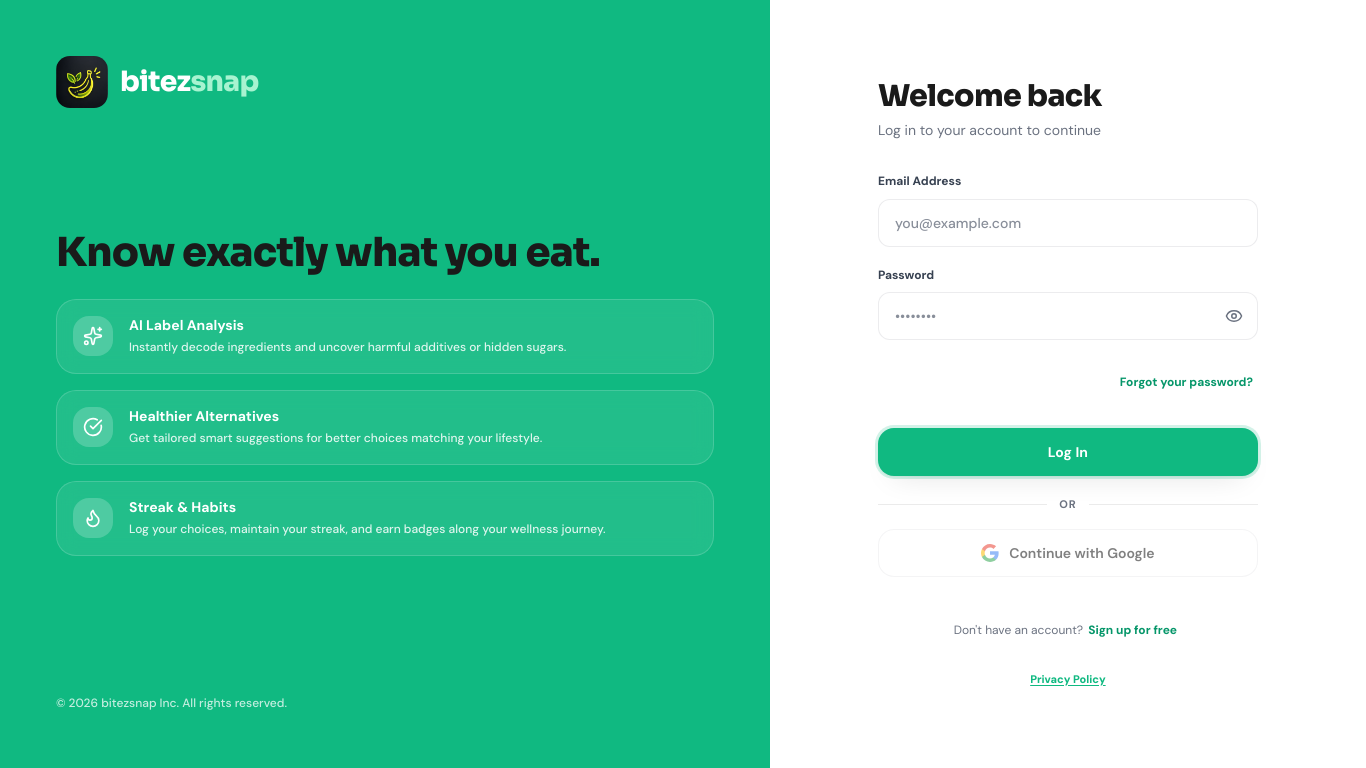
it: Login › shows error on failure
The width and height of the screenshot is (1366, 768).
Type "a@b.com" into the field labelled "Email Address" at x=1068, y=223, box [878, 199, 1258, 247]
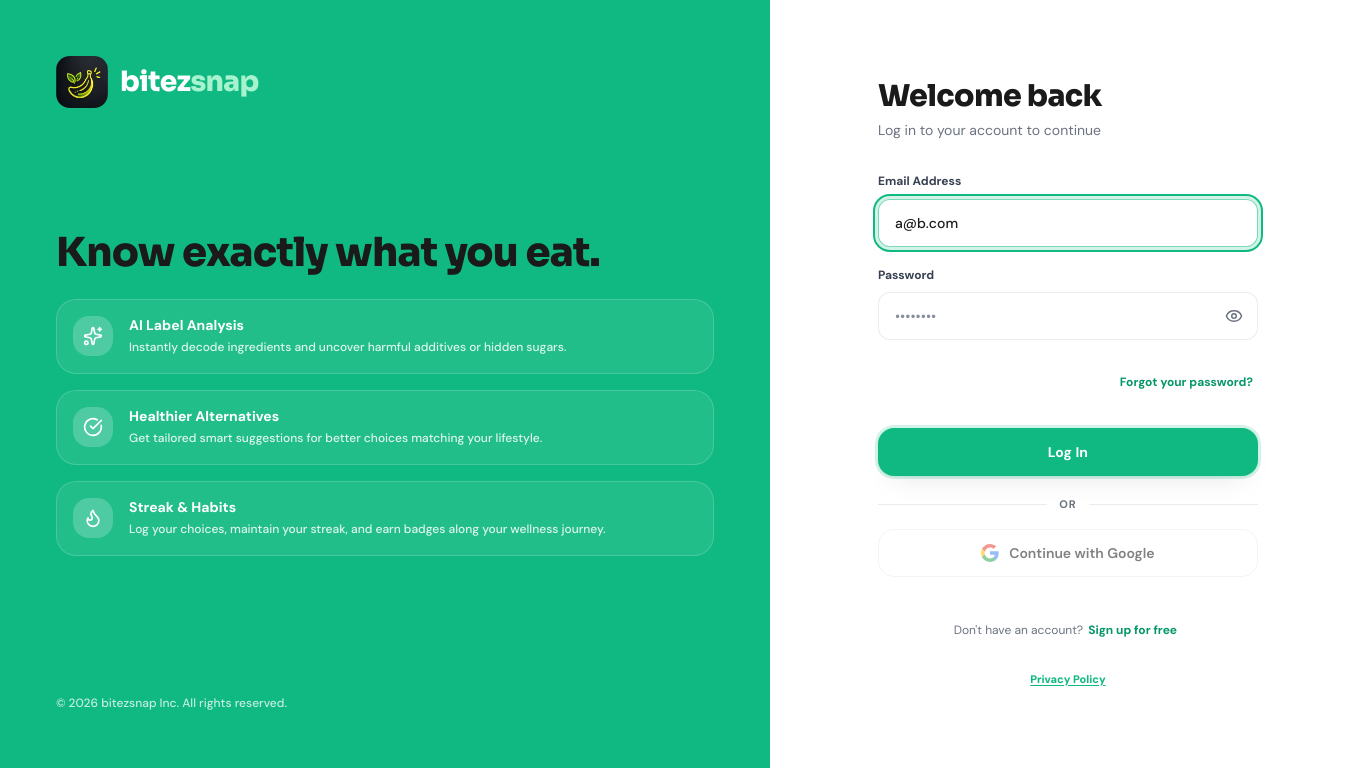
Type "wrong" into the password field labelled "Password" at x=1068, y=316, box [878, 292, 1258, 340]
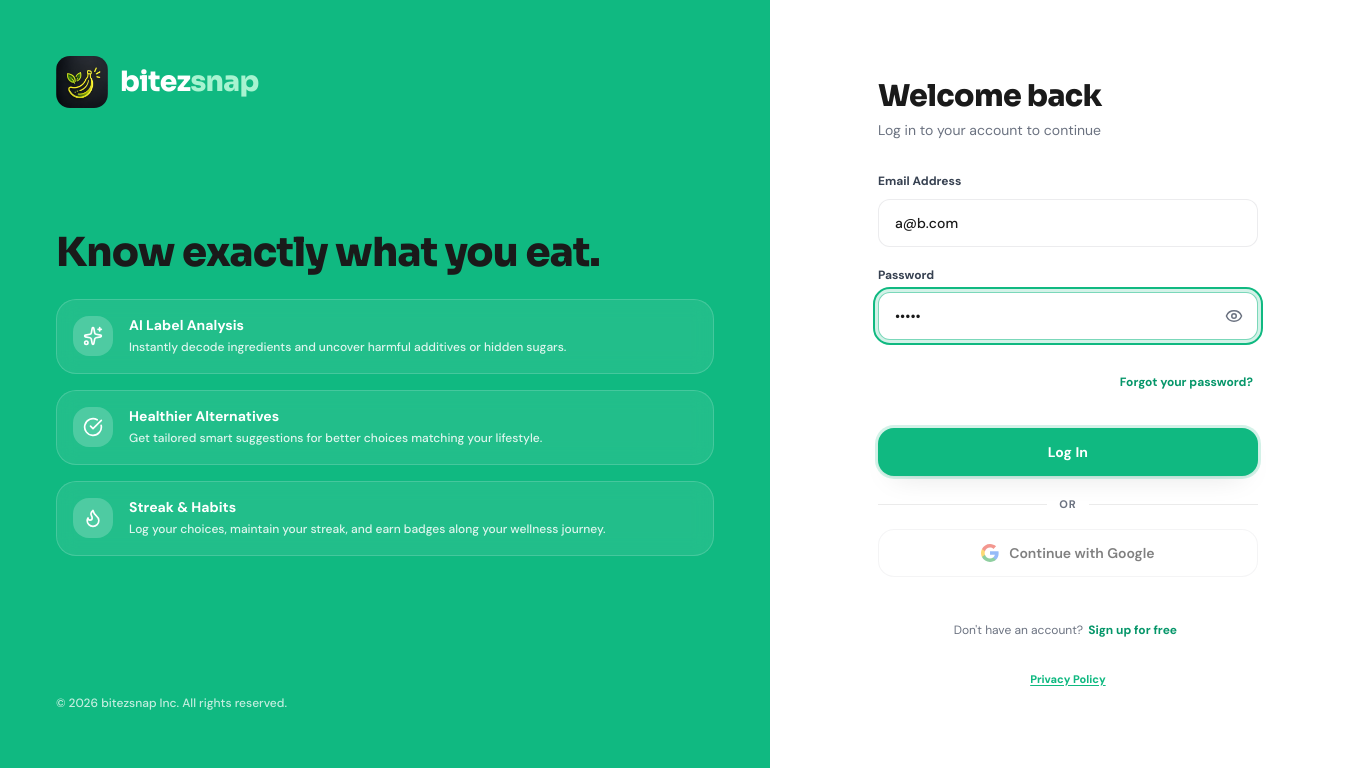
Click the button "Log In" at x=1068, y=452, box [878, 428, 1258, 476]
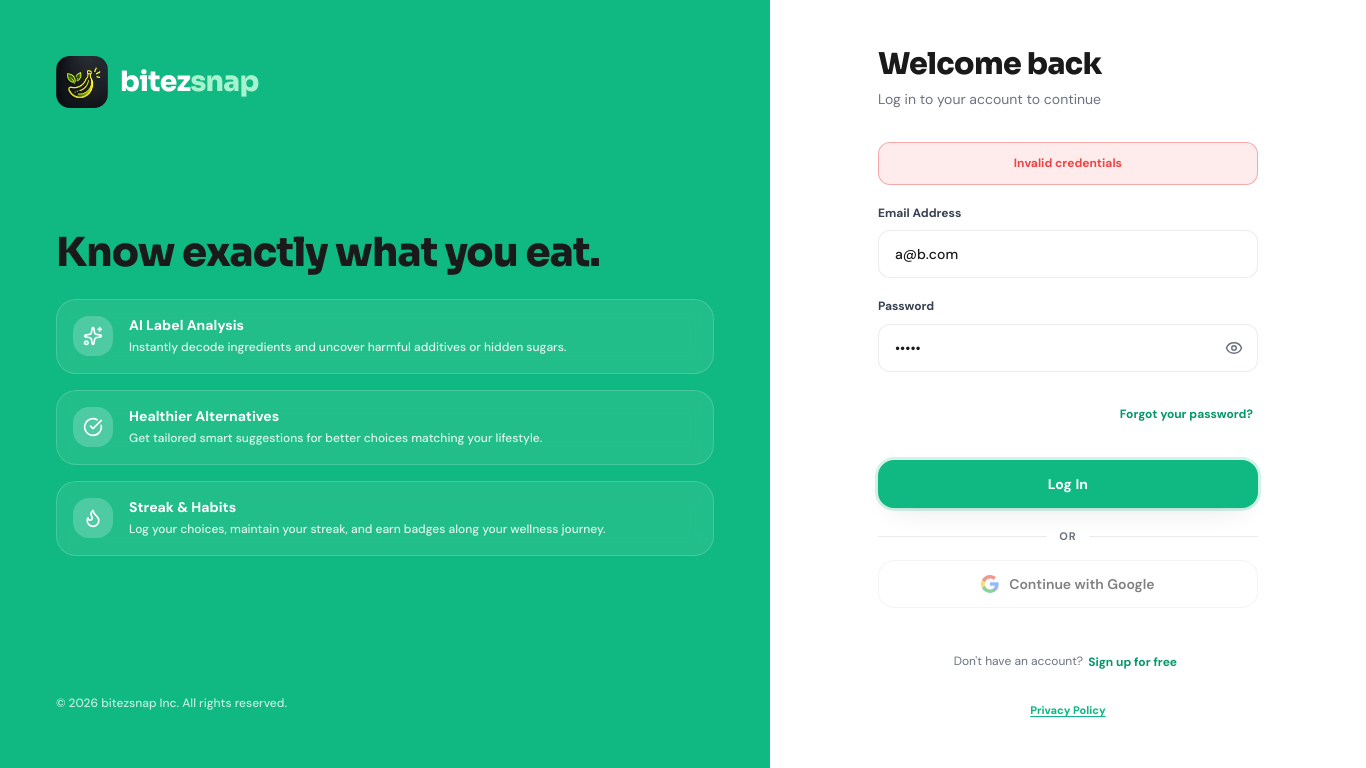
Now the text "Invalid credentials" is shown, box [878, 142, 1258, 185]
